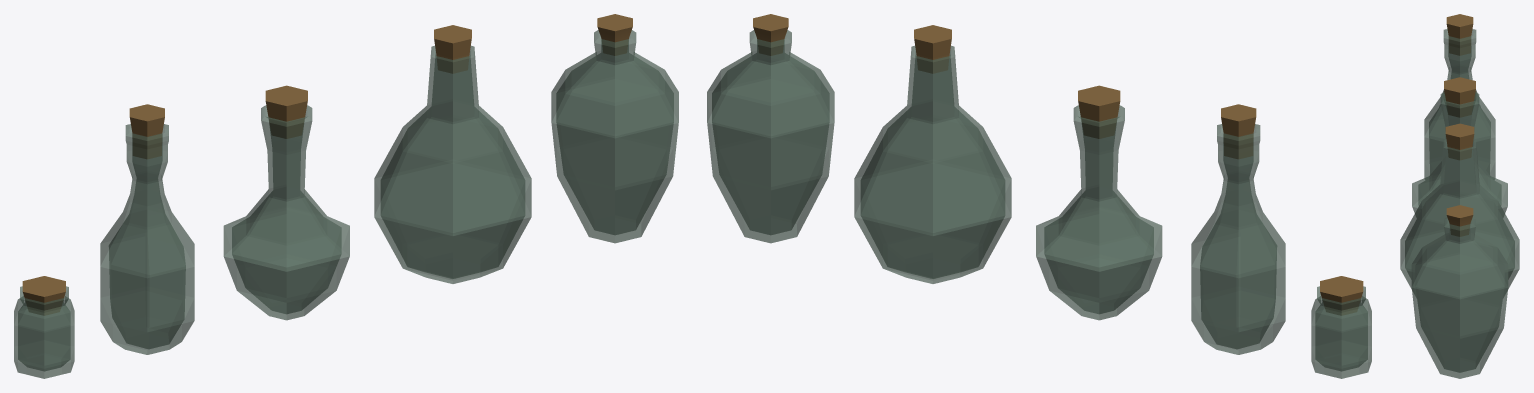
File: vials.fbx
3 renders of one model, left to right at view 1: azimuth 30°, elevation 25°; view 2: azimuth 150°, elevation 25°; view 3: azimuth 270°, elevation 25°, orthographic. The views are drawn at different scales.
Visible parts, largest first — view 1: vial_4, vial_5, vial_3, vial_2, vial_1, cork_3, cork_2, cork_4, cork_1, cork_5; view 2: vial_4, vial_5, vial_3, vial_2, vial_1, cork_3, cork_2, cork_4, cork_1, cork_5; view 3: vial_5, vial_4, vial_2, vial_3, cork_3, cork_2, cork_4, cork_5.
Boxes of the visible parts, box(x1,y1,x2,y2) form: vial_4: box(374, 45, 531, 283); vial_5: box(551, 30, 678, 243); vial_3: box(223, 105, 349, 320); vial_2: box(100, 124, 194, 354); vial_1: box(14, 286, 74, 378); cork_3: box(265, 85, 307, 138); cork_2: box(129, 104, 164, 158); cork_4: box(434, 25, 471, 73); cork_1: box(22, 276, 65, 315); cork_5: box(597, 14, 632, 55); vial_4: box(854, 45, 1011, 283); vial_5: box(707, 30, 834, 243); vial_3: box(1036, 105, 1162, 320); vial_2: box(1191, 124, 1285, 354); vial_1: box(1311, 286, 1371, 378); cork_3: box(1078, 85, 1120, 138); cork_2: box(1221, 104, 1256, 158); cork_4: box(914, 25, 951, 73); cork_1: box(1320, 276, 1363, 315); cork_5: box(753, 14, 788, 55); vial_5: box(1411, 217, 1508, 378); vial_4: box(1400, 139, 1519, 297); vial_2: box(1424, 29, 1495, 179); vial_3: box(1412, 92, 1507, 216); cork_3: box(1444, 77, 1475, 117); cork_2: box(1446, 14, 1473, 55); cork_4: box(1445, 123, 1474, 159); cork_5: box(1446, 205, 1473, 236).
Bounding box in the file's own units: 35.23 × 12.01 × 7.23.
